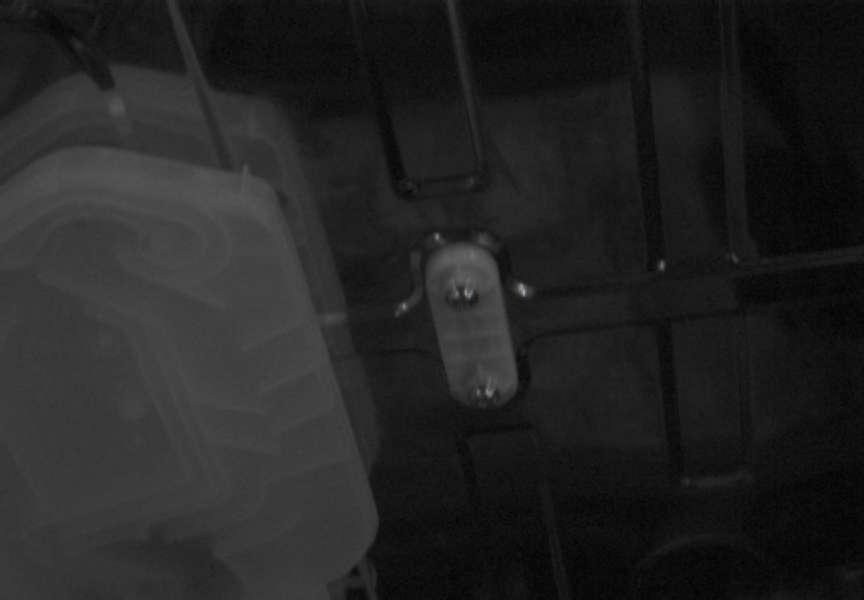screw: (469, 381, 502, 409), (445, 283, 479, 309)
